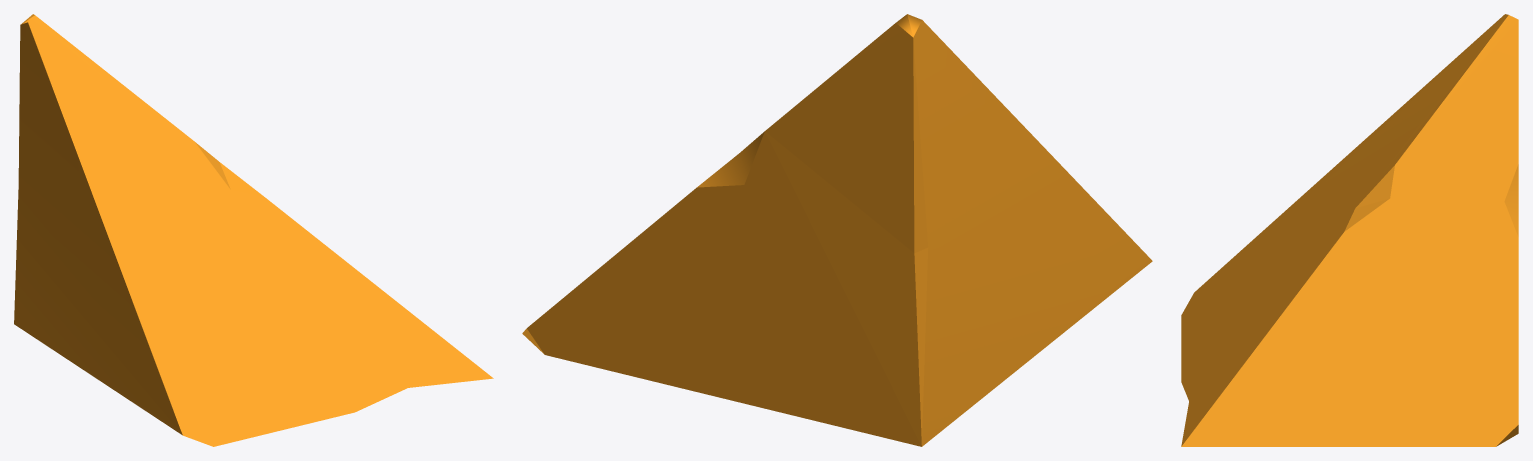
Rendered from SM_Buildings_Ramp_Corner_1x1_01P.fbx.
The picture shows the model from 3 angles, left to right: view 1: azimuth 30°, elevation 25°; view 2: azimuth 150°, elevation 25°; view 3: azimuth 270°, elevation 25°; orthographic projection. The views are drawn at different scales.
Parts seen in each view (by area): view 1: SM_Buildings_Ramp_Corner_1x1_01P; view 2: SM_Buildings_Ramp_Corner_1x1_01P; view 3: SM_Buildings_Ramp_Corner_1x1_01P.
Part boxes in pixels (<box>): SM_Buildings_Ramp_Corner_1x1_01P: <box>14,14,493,446</box>; SM_Buildings_Ramp_Corner_1x1_01P: <box>522,14,1152,446</box>; SM_Buildings_Ramp_Corner_1x1_01P: <box>1181,14,1518,446</box>.
Bounding box in the file's own units: 100 × 97.05 × 100.
